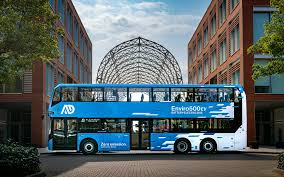bus: (46, 80, 249, 156)
